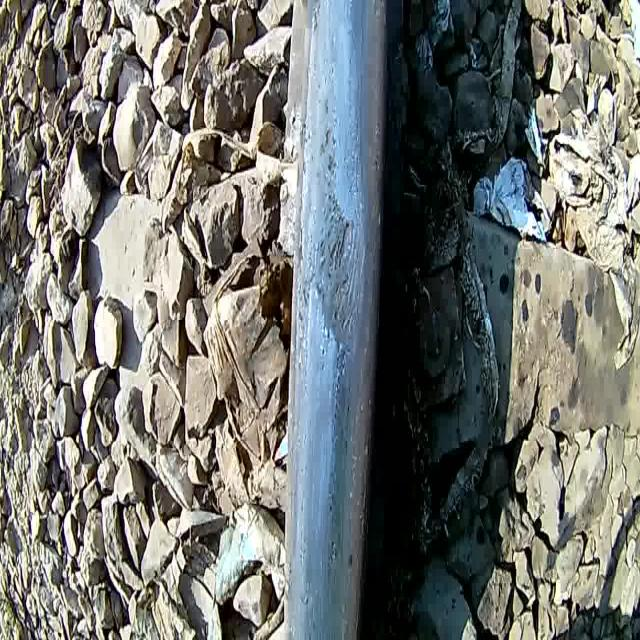Squats: (310, 112, 365, 378)
